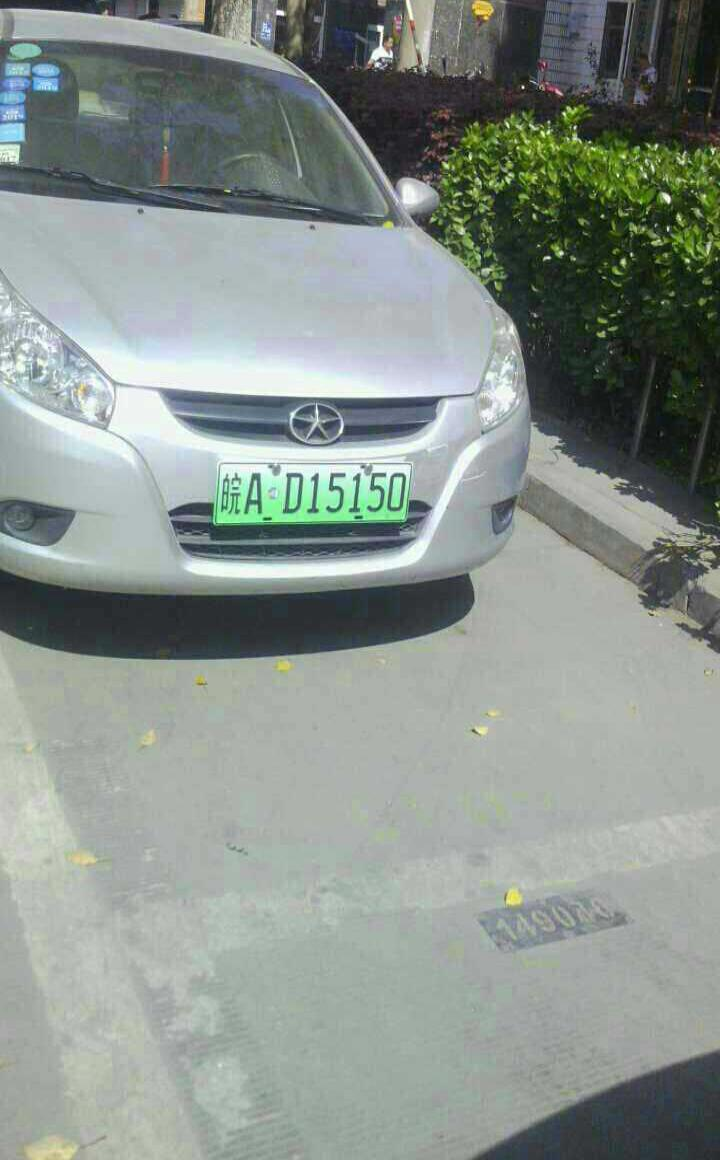car_green: (207, 458, 420, 527)
